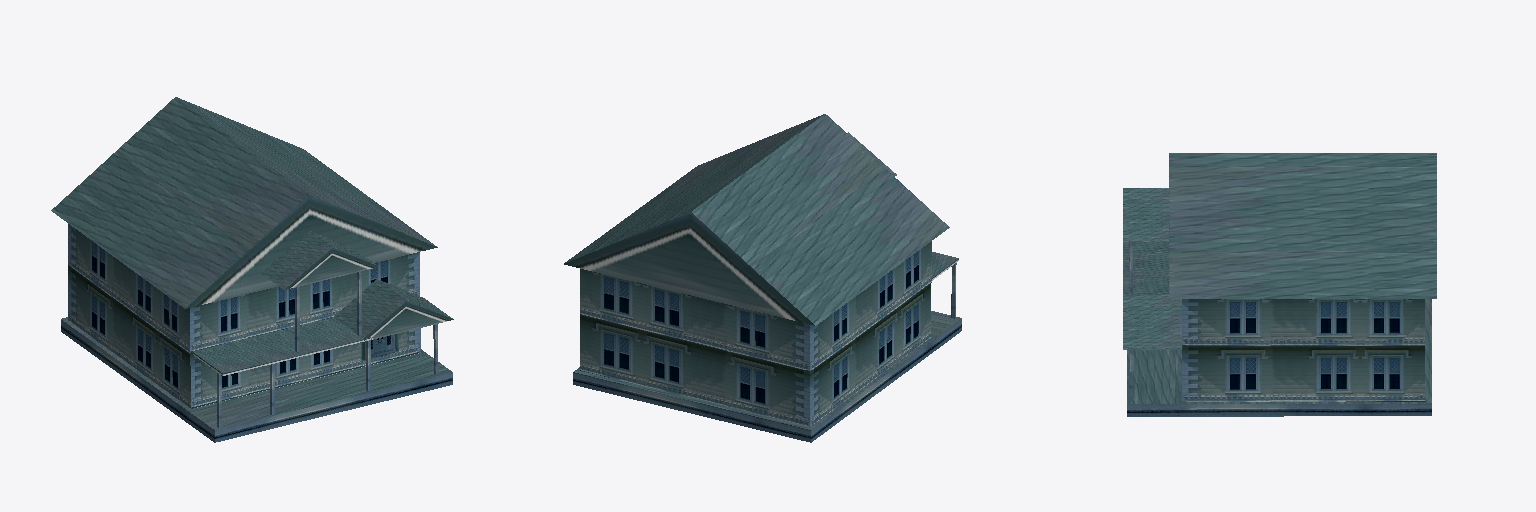
3 renders of one model, left to right at view 1: azimuth 30°, elevation 25°; view 2: azimuth 150°, elevation 25°; view 3: azimuth 270°, elevation 25°, orthographic.
Parts seen in each view (by area): view 1: cottage; view 2: cottage; view 3: cottage.
Boxes of the visible parts, box(x1,y1,x2,y2) form: cottage: box(51, 97, 453, 442); cottage: box(564, 114, 961, 442); cottage: box(1123, 153, 1436, 416).
Bounding box in the file's own units: 24.11 × 18.61 × 26.01.
Materials: 1 (1 with a texture image).